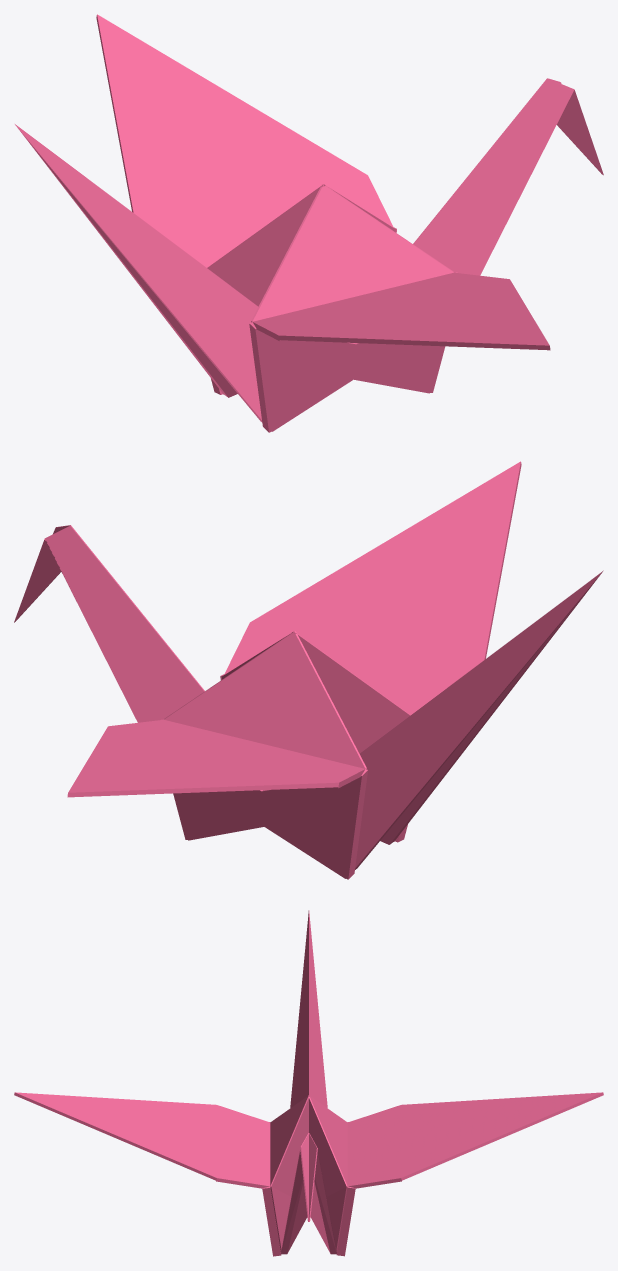
File: tsuru.obj
3 renders of one model, top to bottom at view 1: azimuth 30°, elevation 25°; view 2: azimuth 150°, elevation 25°; view 3: azimuth 270°, elevation 25°, orthographic. The views are drawn at different scales.
Parts seen in each view (by area): view 1: uploads_files_18749_crane; view 2: uploads_files_18749_crane; view 3: uploads_files_18749_crane.
Part boxes in pixels (box(x1,y1,x2,y2)): uploads_files_18749_crane: box(15, 14, 603, 432); uploads_files_18749_crane: box(14, 461, 603, 879); uploads_files_18749_crane: box(14, 910, 603, 1256).
Size of the model in its own units: 3.7 by 2.07 by 4.93.
Materials: 1 (1 with a texture image).
